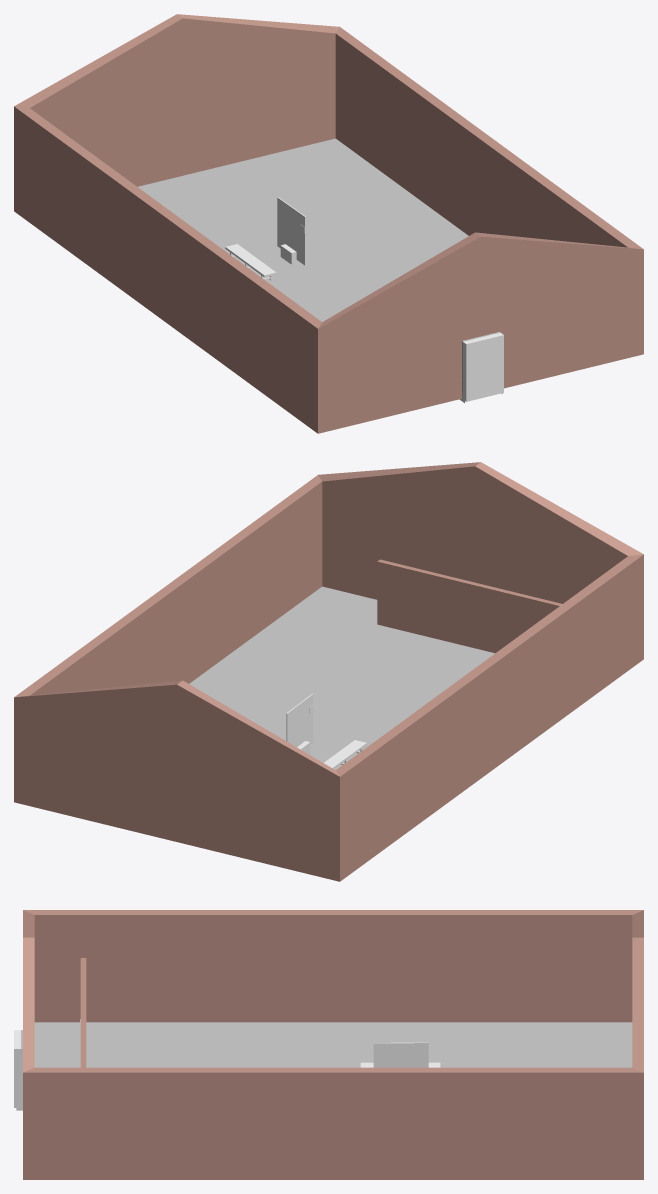
Rendered from iphan_v1.obj.
3 views of the same model, one above another, from view 1: azimuth 30°, elevation 25°; view 2: azimuth 150°, elevation 25°; view 3: azimuth 270°, elevation 25° (orthographic). The views are drawn at different scales.
Parts seen in each view (by area): view 1: Room, Floor, CTRL_Hole, Art_Display, Bench; view 2: Room, Floor, Room.001, Art_Display; view 3: Room, Floor, Art_Display, Room.001, CTRL_Hole.
Boxes of the visible parts, left/top/right/bottom form: Room: left=14, top=14, right=643, bottom=433; Floor: left=138, top=138, right=468, bottom=321; CTRL_Hole: left=462, top=332, right=503, bottom=401; Art_Display: left=277, top=197, right=305, bottom=265; Bench: left=225, top=244, right=276, bottom=280; Room: left=14, top=462, right=643, bottom=881; Floor: left=189, top=586, right=494, bottom=769; Room.001: left=377, top=559, right=562, bottom=653; Art_Display: left=286, top=693, right=313, bottom=754; Room: left=23, top=910, right=643, bottom=1179; Floor: left=34, top=1022, right=632, bottom=1067; Art_Display: left=373, top=1042, right=428, bottom=1067; Room.001: left=80, top=958, right=86, bottom=1067; CTRL_Hole: left=14, top=1030, right=22, bottom=1107.
Bounding box in the file's own units: 13 × 6.1 × 21.3.
